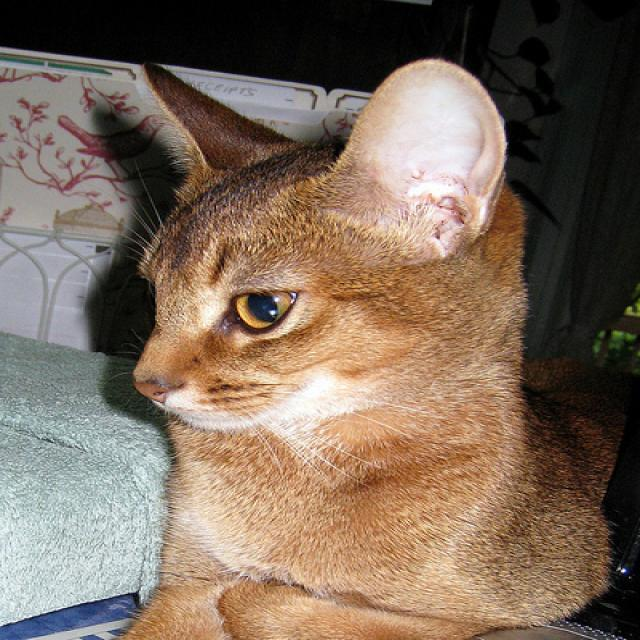Abyssinian: (98, 63, 522, 425)
